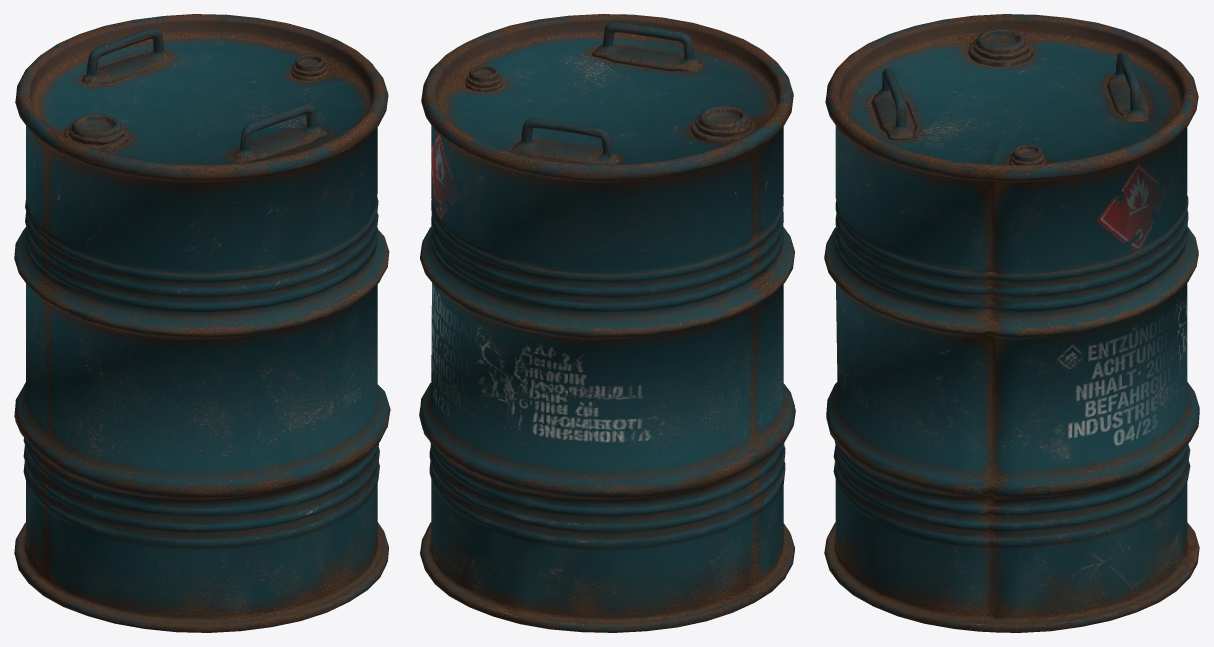
The model's file is barrel_chemical_blue.glb.
The picture shows the model from 3 angles, left to right: view 1: azimuth 30°, elevation 25°; view 2: azimuth 150°, elevation 25°; view 3: azimuth 270°, elevation 25°; orthographic projection.
Visible parts, largest first — view 1: tripo_node_0a67e4dd-6aca-48bb-acb3-df57b7e4f1e3; view 2: tripo_node_0a67e4dd-6aca-48bb-acb3-df57b7e4f1e3; view 3: tripo_node_0a67e4dd-6aca-48bb-acb3-df57b7e4f1e3.
Part boxes in pixels (x1,y1,x2,y2): tripo_node_0a67e4dd-6aca-48bb-acb3-df57b7e4f1e3: (14,14,390,632); tripo_node_0a67e4dd-6aca-48bb-acb3-df57b7e4f1e3: (419,14,795,632); tripo_node_0a67e4dd-6aca-48bb-acb3-df57b7e4f1e3: (824,14,1199,632).
Size of the model in its own units: 0.709 by 0.998 by 0.709.
1 material, 1 textured.
